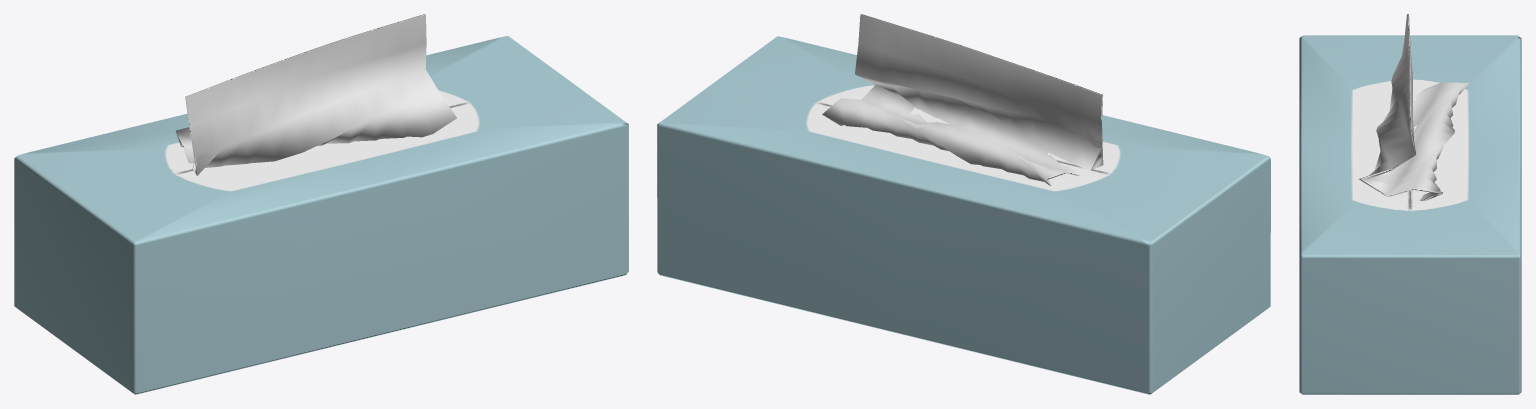
Rendered from Tissue_01.fbx.
3 renders of one model, left to right at view 1: azimuth 30°, elevation 25°; view 2: azimuth 150°, elevation 25°; view 3: azimuth 270°, elevation 25°, orthographic. The views are drawn at different scales.
Parts seen in each view (by area): view 1: pPlane28; view 2: pPlane28; view 3: pPlane28.
Boxes of the visible parts, x1,y1,x2,y2 form: pPlane28: [14, 14, 628, 394]; pPlane28: [657, 14, 1270, 394]; pPlane28: [1299, 14, 1521, 394].
Size of the model in its own units: 24.35 by 11.84 by 10.31.
2 materials, 1 textured.
